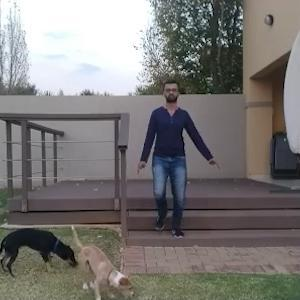land: (133, 86, 211, 232)
